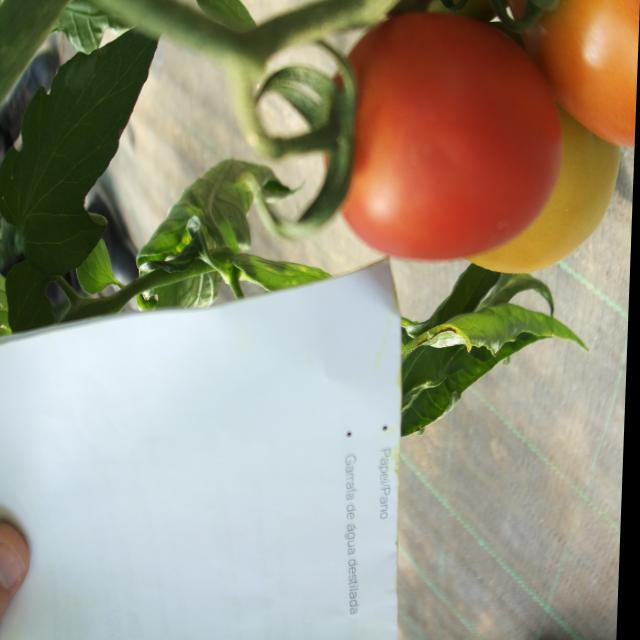kirmizi: (289, 21, 577, 257)
